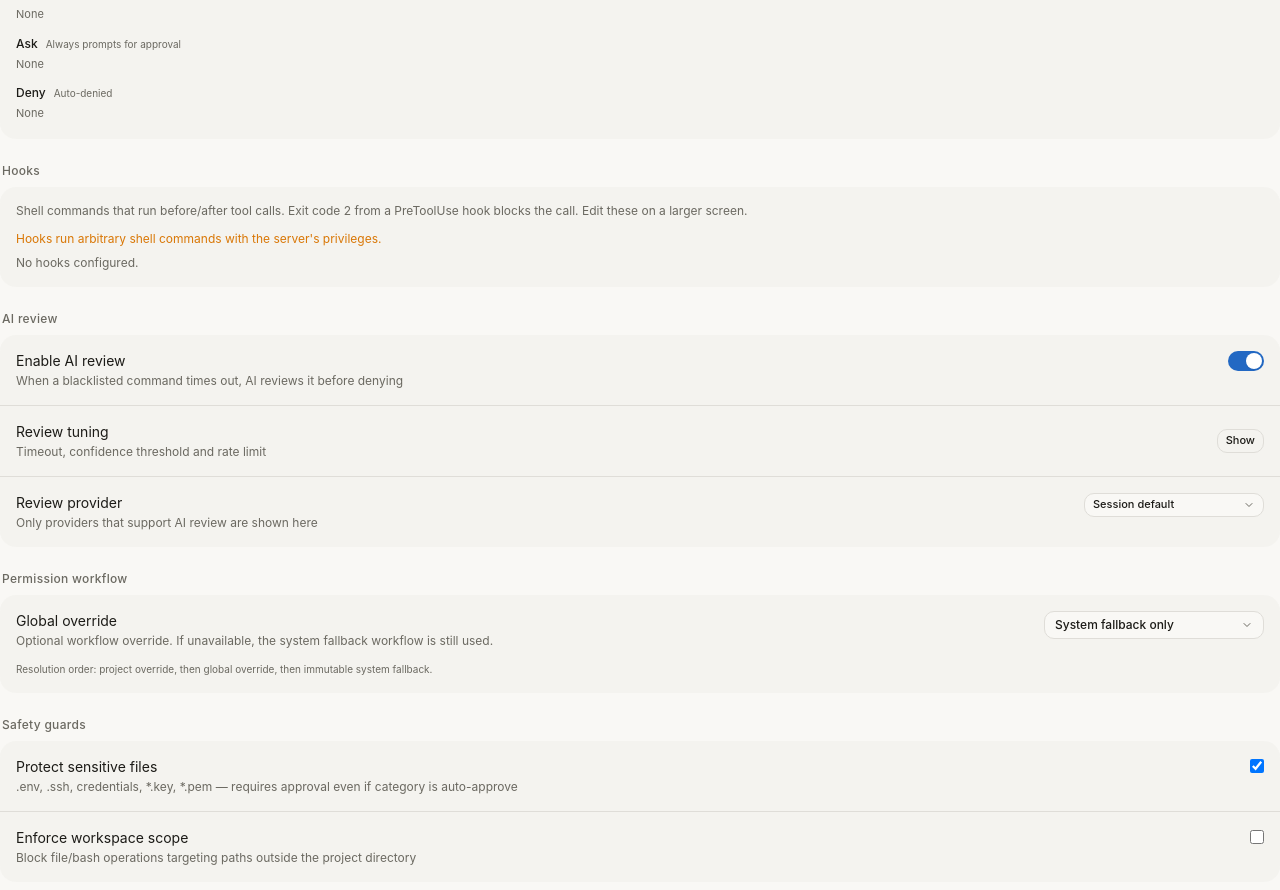
PermissionSettings › collapses the AI review knobs on a phone and opens them on demand
(page scrolled)
Expected: the text "Enable AI review" is shown, x1=16 y1=352 x2=126 y2=369
Expected: the text "Review tuning" is shown, x1=16 y1=423 x2=109 y2=440
Click the button "Show" at (1240,441), box x1=1217 y1=429 x2=1264 y2=453
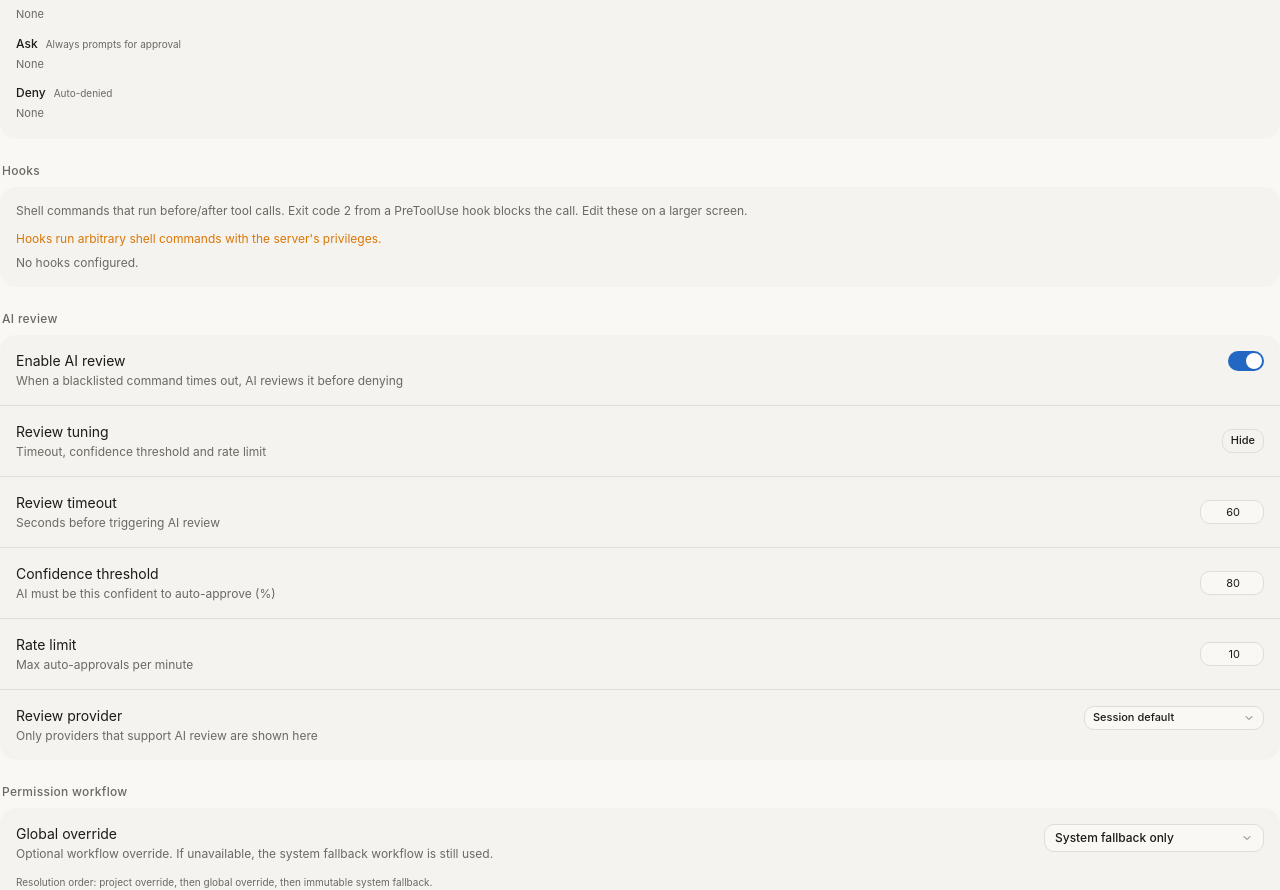
Expected: the number field named "Review timeout" is shown, x1=1200 y1=500 x2=1264 y2=524
Expected: the number field named "Confidence threshold" is shown, x1=1200 y1=571 x2=1264 y2=595
Expected: the number field named "Rate limit" is shown, x1=1200 y1=642 x2=1264 y2=666
